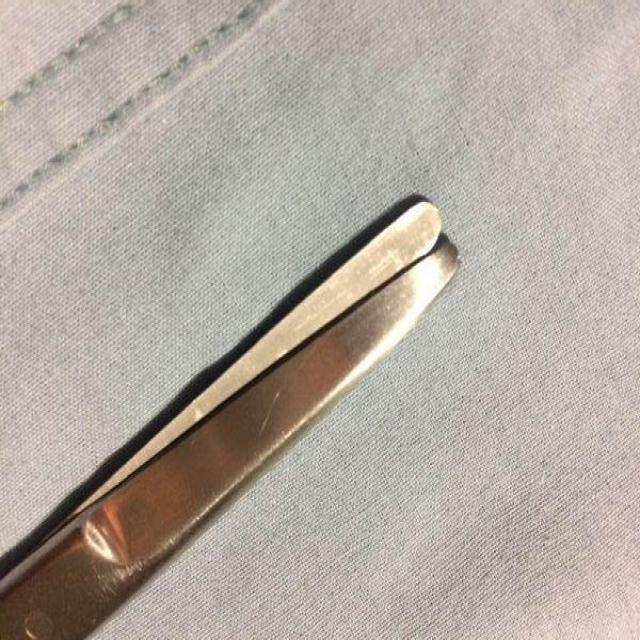Mayo_metz: (2, 192, 465, 637)
